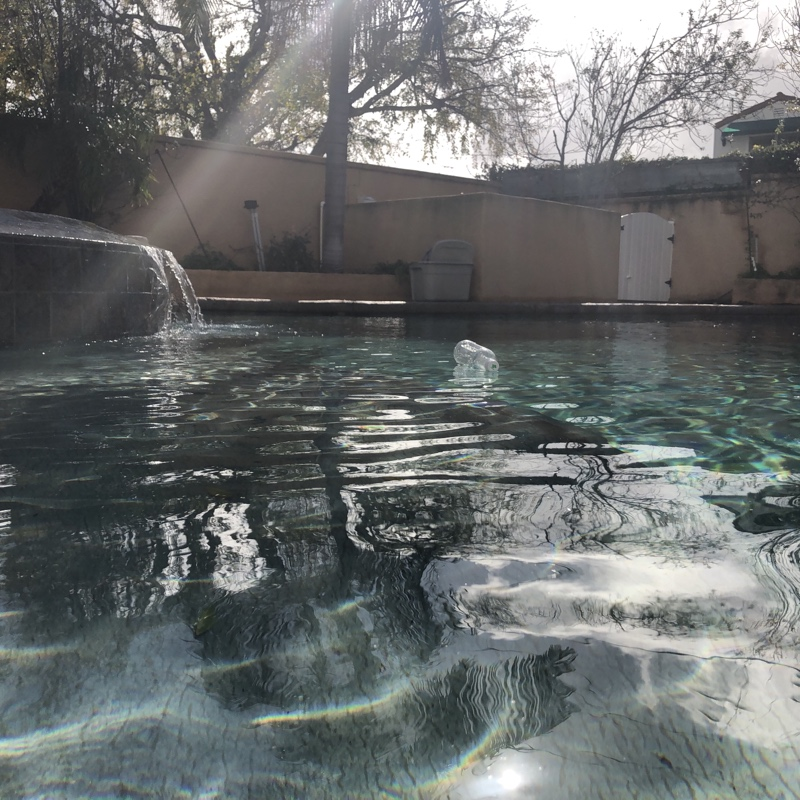Plastic Bottle: (452, 336, 501, 378)
